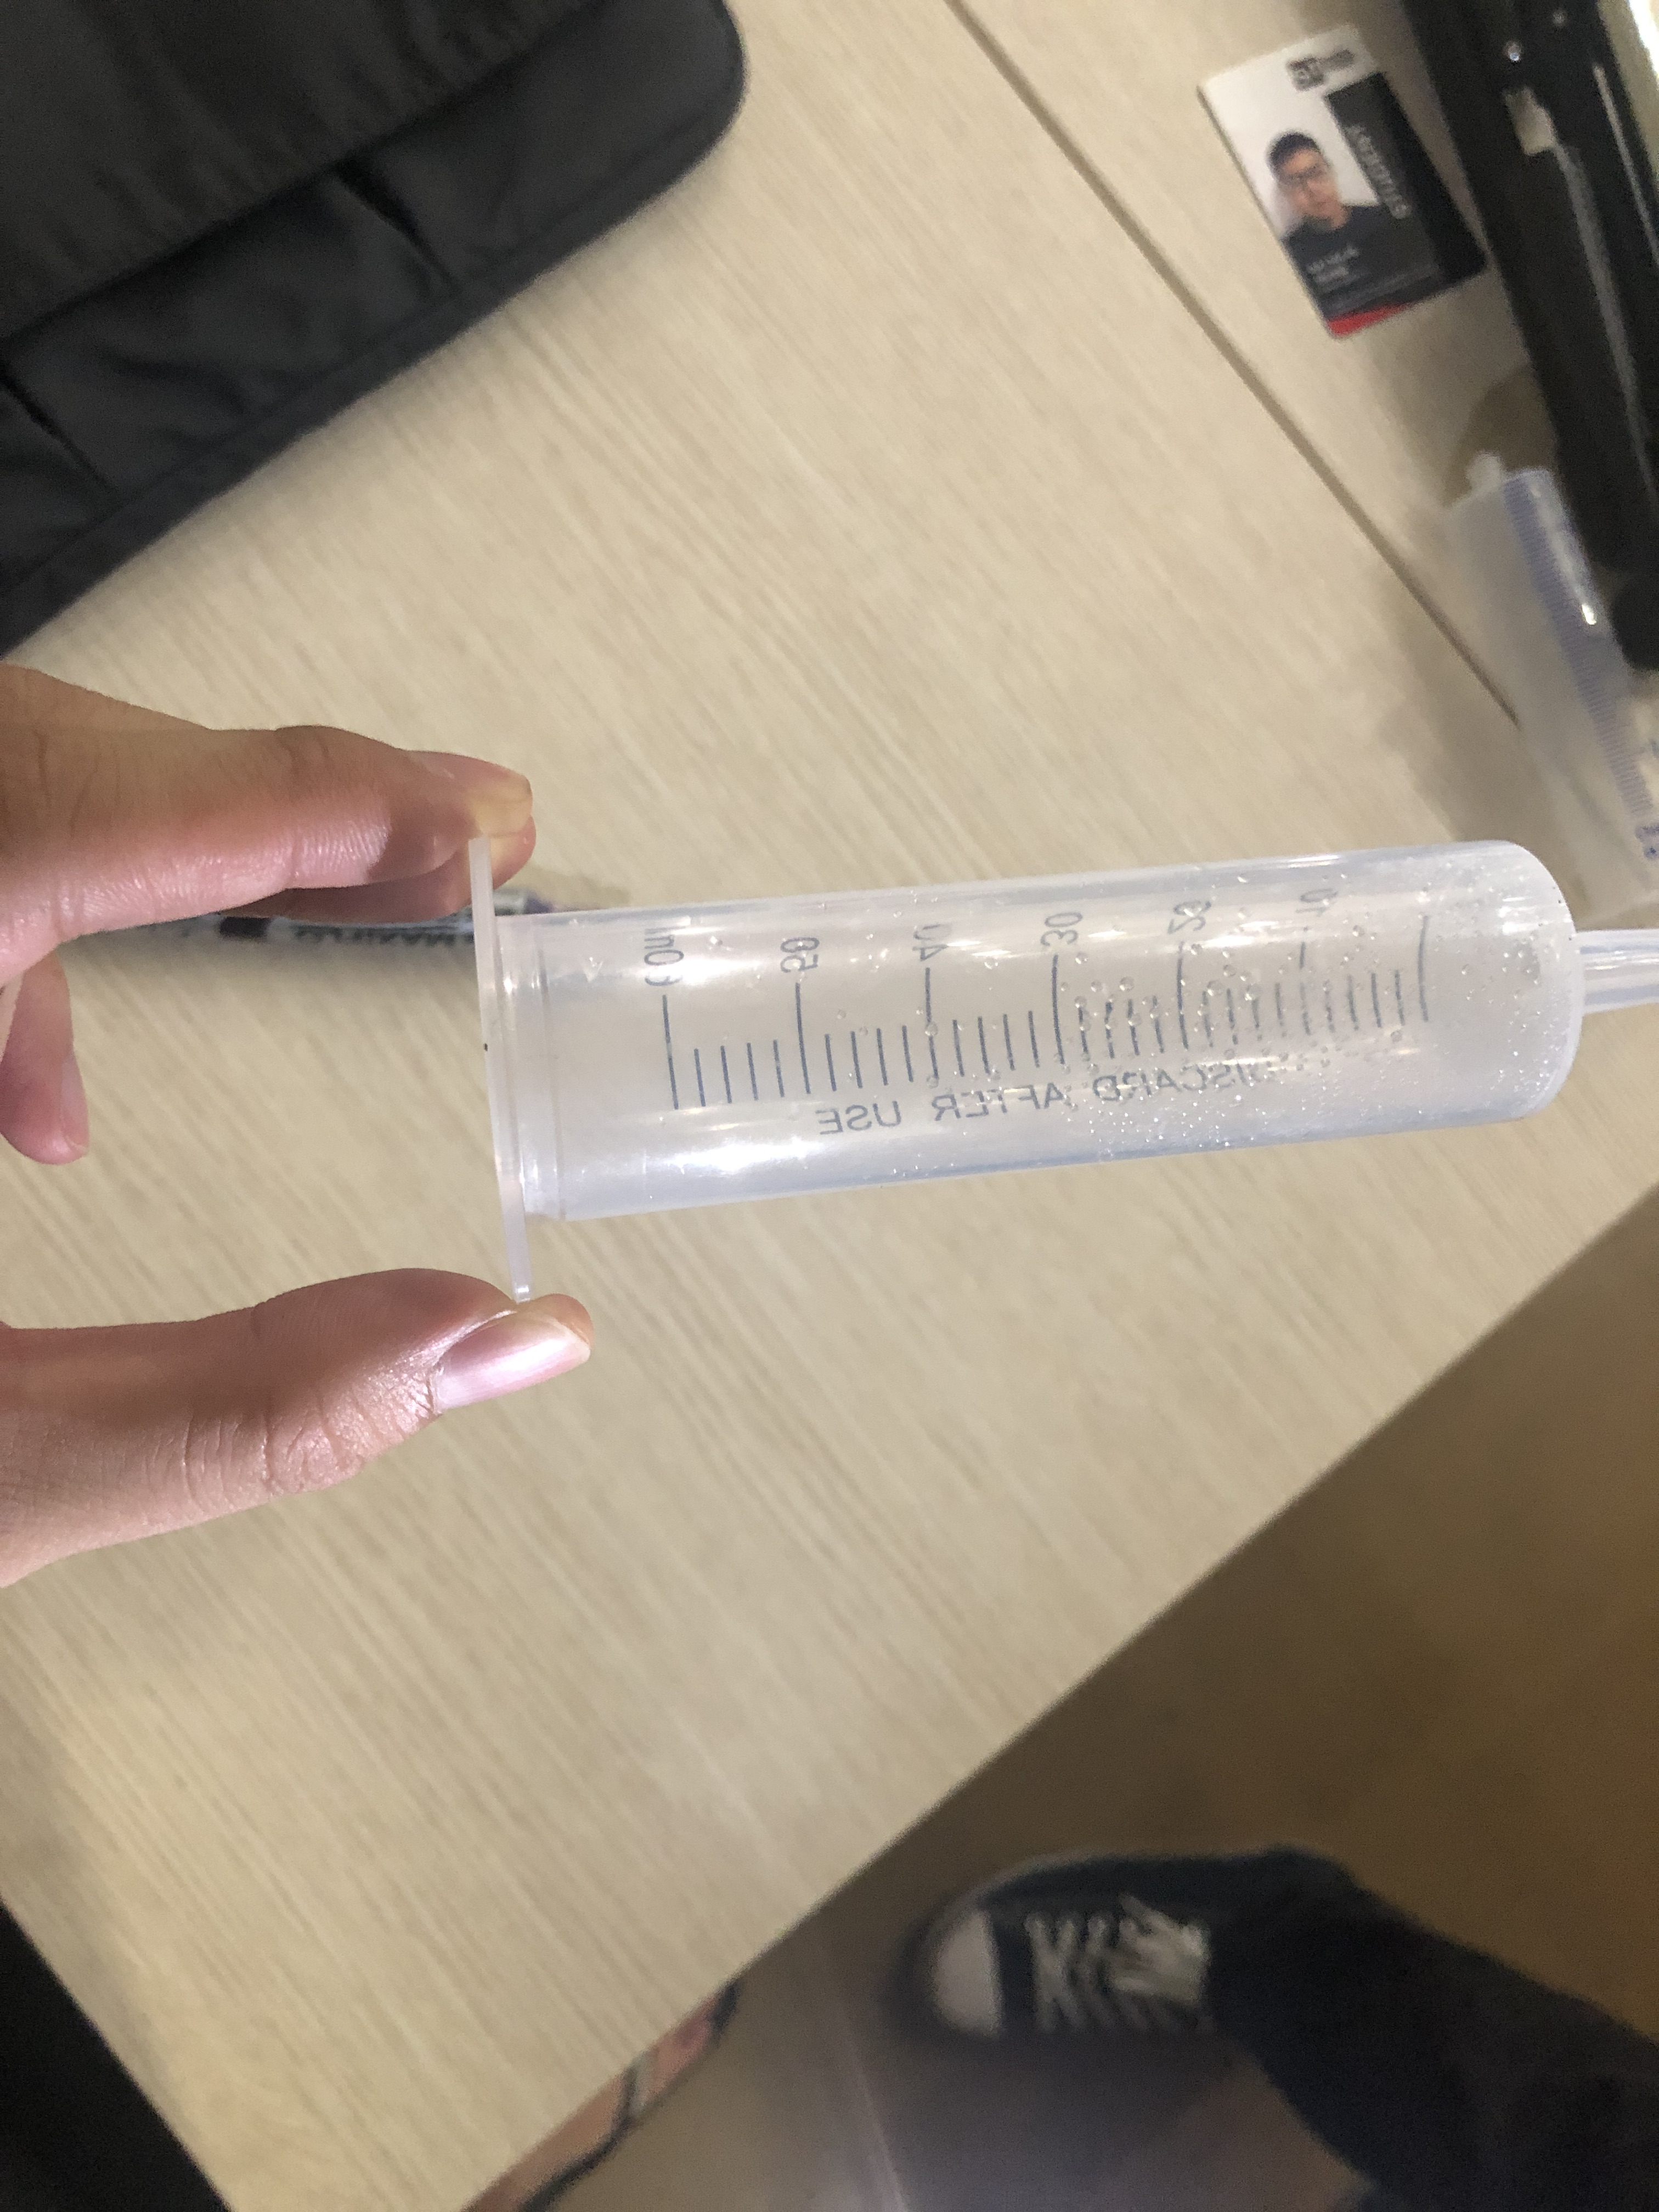syringe: (455, 813, 1657, 1312)
